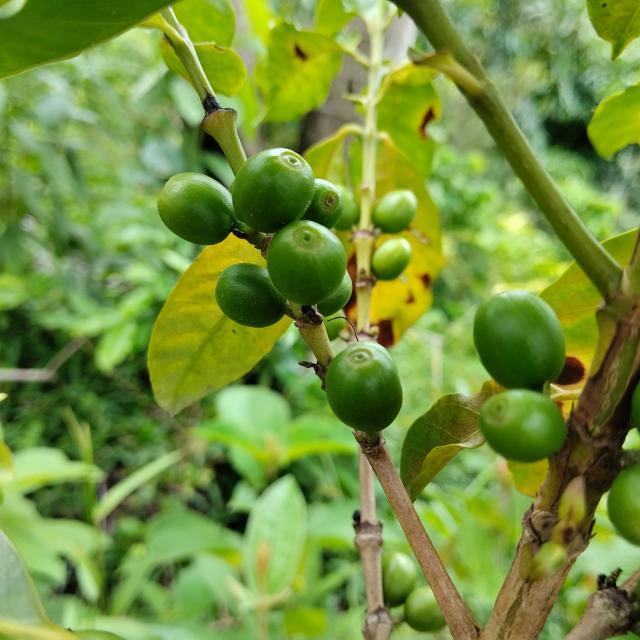green: (474, 290, 567, 391), (325, 341, 403, 433), (231, 148, 315, 233), (267, 219, 347, 306), (480, 389, 568, 463), (157, 172, 235, 245), (215, 263, 287, 328), (302, 178, 344, 229), (373, 189, 418, 233), (405, 587, 447, 633), (371, 238, 412, 281), (317, 270, 353, 317)
